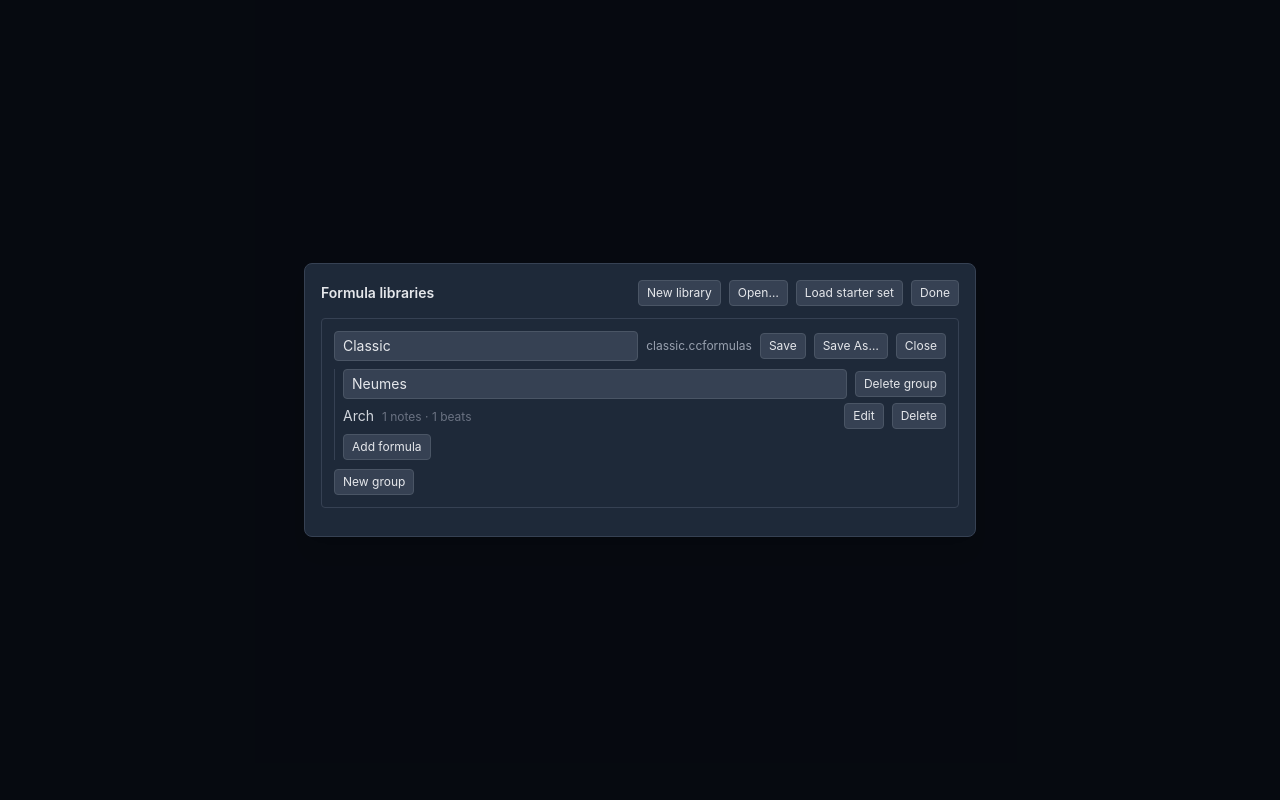
Test: FormulaLibraryDialog › opens the editor on a formula
This screenshot has width=1280, height=800.
Click the button with aria-label "Edit Arch": (864, 416) [844,403,884,429]
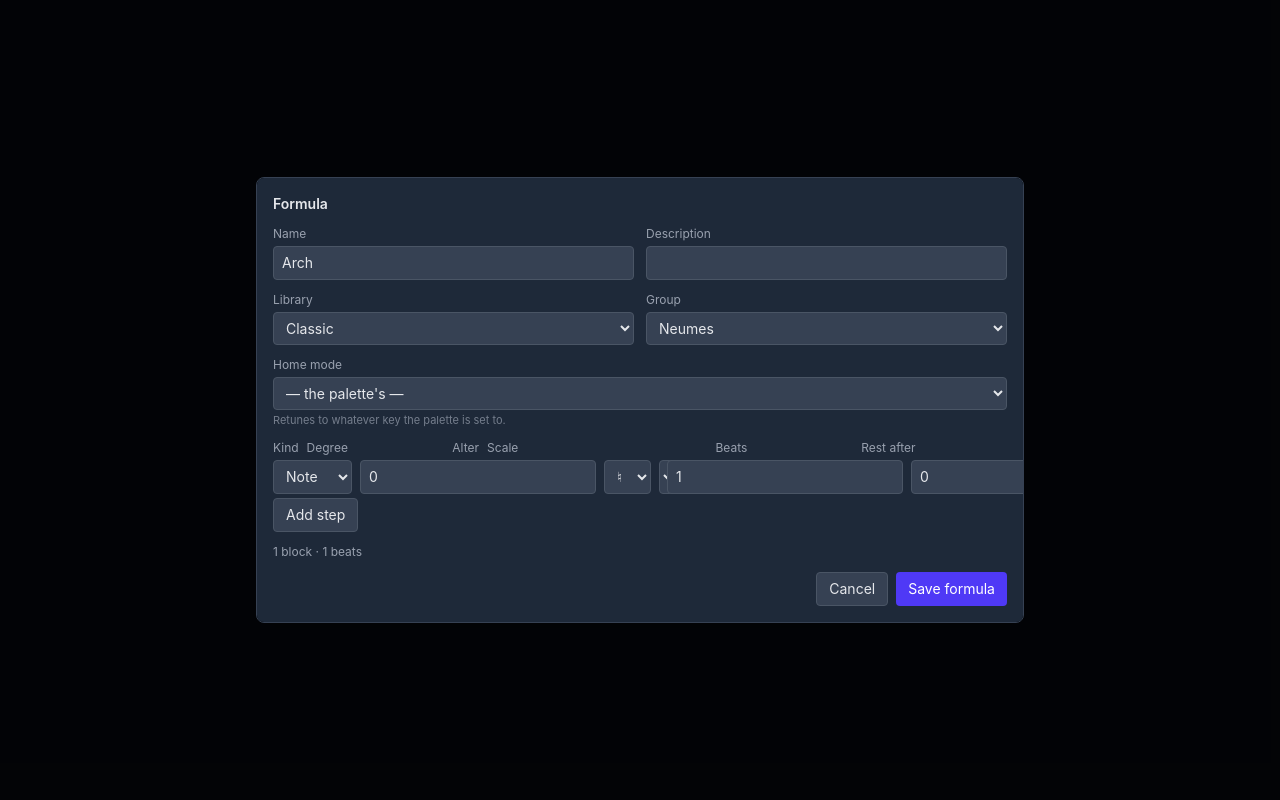
Result: the element with test id "formula-editor" is shown
Result: the field named "Formula name" holds "Arch" at [273,246,634,280]
